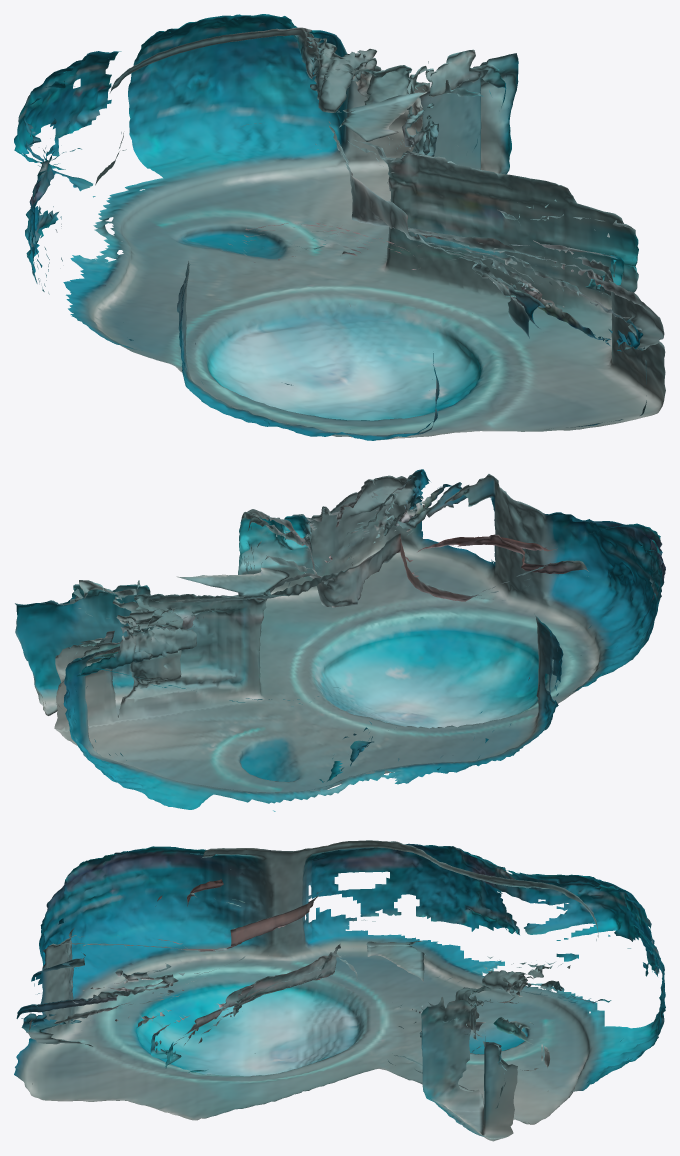
Rendered from Underwater Living Space Futuristic Design_collider.glb.
3 views of the same model, one above another, from view 1: azimuth 30°, elevation 25°; view 2: azimuth 150°, elevation 25°; view 3: azimuth 270°, elevation 25° (orthographic). The views are drawn at different scales.
Parts seen in each view (by area): view 1: world; view 2: world; view 3: world.
Part boxes in pixels (<box>): world: <box>14,14,665,440</box>; world: <box>15,469,665,811</box>; world: <box>14,840,665,1141</box>.
Bounding box in the file's own units: 6.96 × 2.44 × 9.14.
